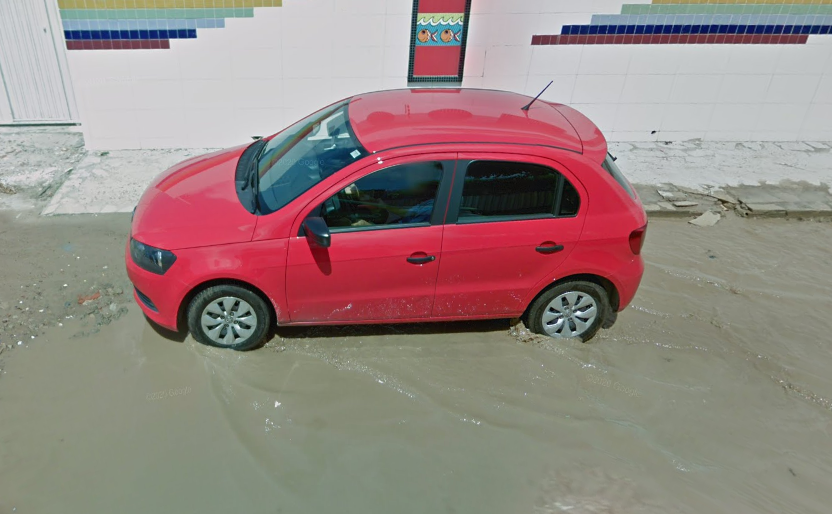car: (123, 85, 651, 354)
